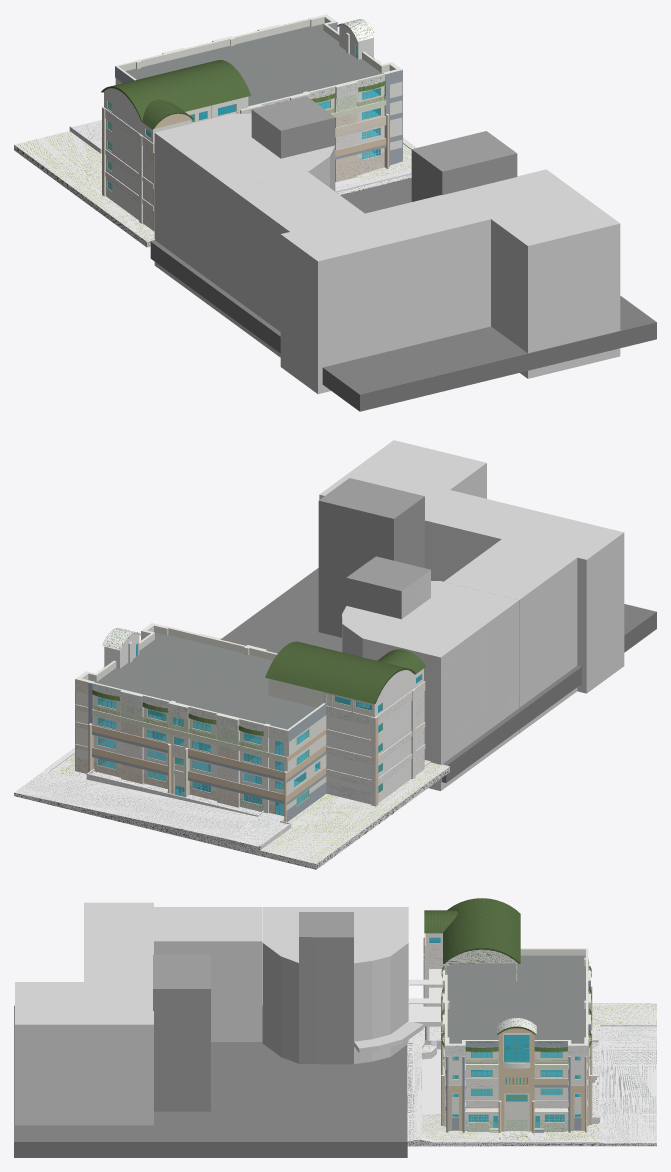
File: EEE.fbx
The picture shows the model from 3 angles, top to bottom: view 1: azimuth 30°, elevation 25°; view 2: azimuth 150°, elevation 25°; view 3: azimuth 270°, elevation 25°; orthographic projection. The views are drawn at different scales.
Visible parts, largest first — view 1: pCube6, SketchUp1, pCube7; view 2: SketchUp1, pCube6, pCube7; view 3: pCube6, SketchUp1, pCube7.
Boxes of the visible parts, box(x1,y1,x2,y2) form: pCube6: box(154, 96, 620, 394); SketchUp1: box(14, 14, 416, 247); pCube7: box(150, 178, 656, 411); SketchUp1: box(14, 623, 449, 869); pCube6: box(318, 440, 624, 790); pCube7: box(221, 568, 656, 782); pCube6: box(15, 902, 423, 1125); SketchUp1: box(407, 898, 656, 1146); pCube7: box(14, 1005, 407, 1157).
Bounding box in the file's own units: 18.55 × 9.44 × 36.44.
41 materials, 16 textured.
